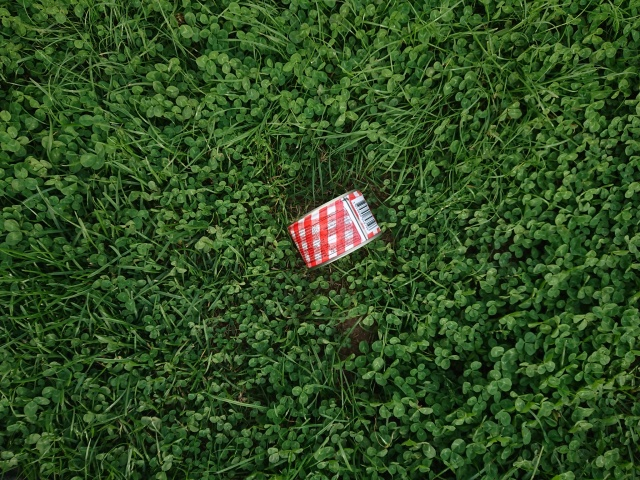Podravka Luncheon Meat 150g: (283, 185, 385, 273)
